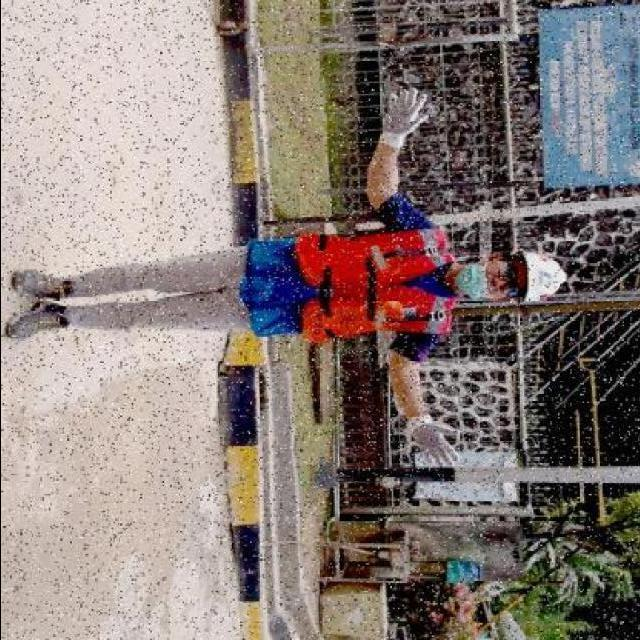boots: (3, 300, 71, 340), (8, 268, 77, 300)
helmet: (518, 250, 566, 304)
vest: (239, 222, 462, 352)
